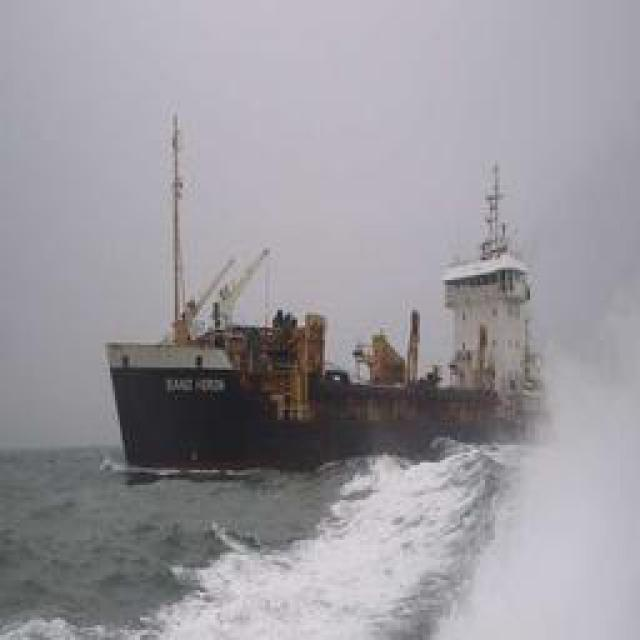Ship: (102, 241, 583, 478)
